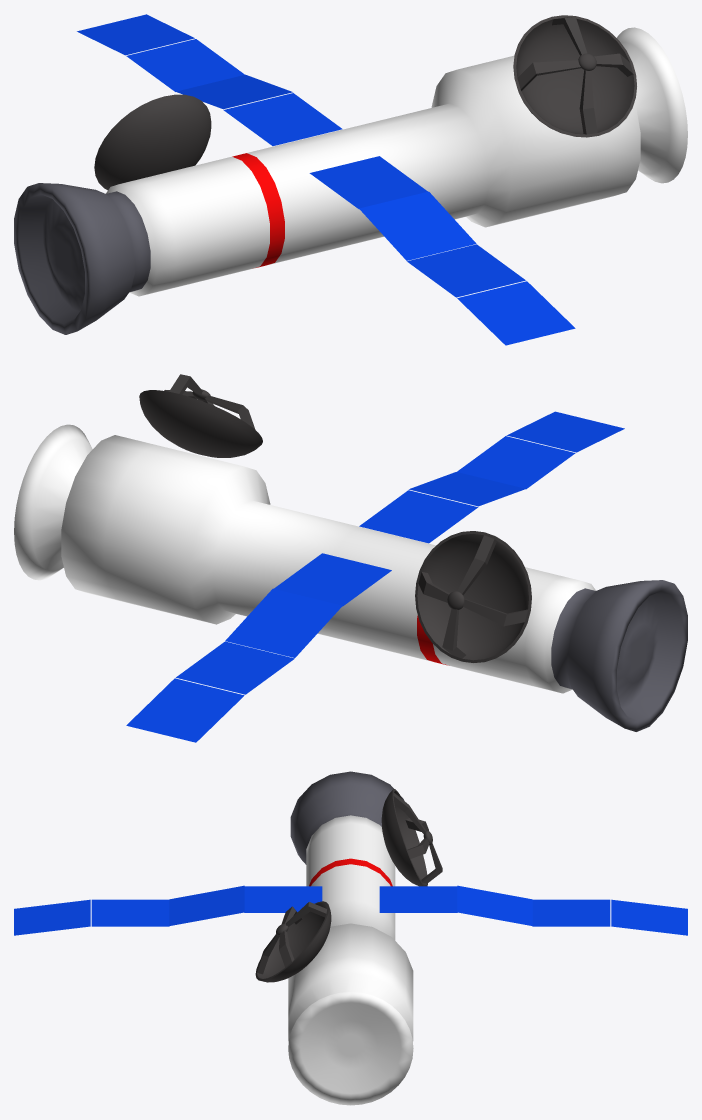
Rendered from berilio.FBX.
3 views of the same model, one above another, from view 1: azimuth 30°, elevation 25°; view 2: azimuth 150°, elevation 25°; view 3: azimuth 270°, elevation 25° (orthographic). The views are drawn at different scales.
Visible parts, largest first — view 1: Object003; view 2: Object003; view 3: Object003.
Boxes of the visible parts, x1,y1,x2,y2 form: Object003: (14,14,687,345); Object003: (14,374,687,742); Object003: (14,771,687,1105).
Size of the model in its own units: 22.17 by 7.55 by 27.66.
